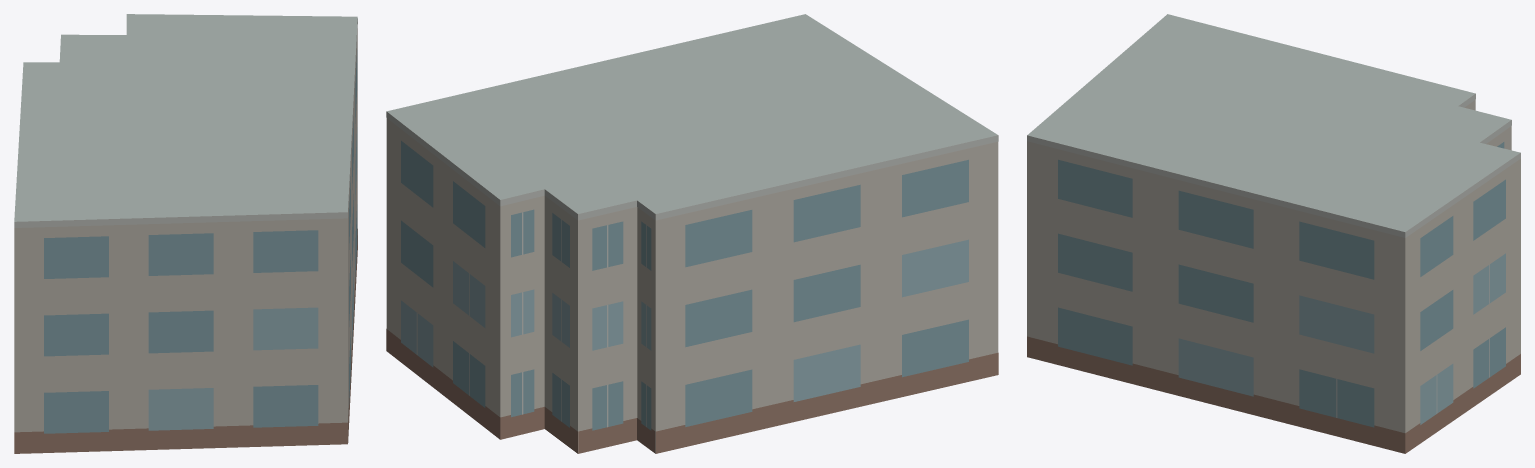
Rendered from survey-upis-32998134.glb.
The picture shows the model from 3 angles, left to right: view 1: azimuth 30°, elevation 25°; view 2: azimuth 150°, elevation 25°; view 3: azimuth 270°, elevation 25°; orthographic projection. The views are drawn at different scales.
Parts seen in each view (by area): view 1: survey-upis-32998134.tmp; view 2: survey-upis-32998134.tmp; view 3: survey-upis-32998134.tmp.
Part boxes in pixels (left/top/right/bottom): survey-upis-32998134.tmp: left=14, top=14, right=357, bottom=453; survey-upis-32998134.tmp: left=386, top=14, right=998, bottom=453; survey-upis-32998134.tmp: left=1027, top=14, right=1520, bottom=453.
Bounding box in the file's own units: 19.32 × 9.15 × 18.48.
